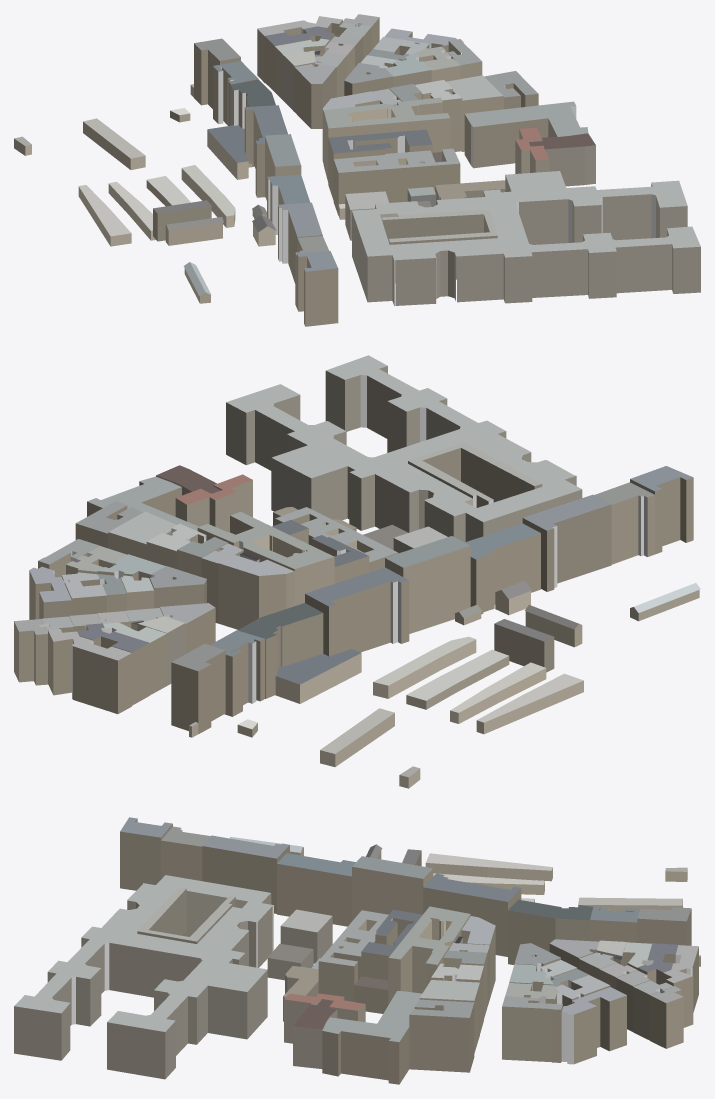
3 views of the same model, one above another, from view 1: azimuth 30°, elevation 25°; view 2: azimuth 150°, elevation 25°; view 3: azimuth 270°, elevation 25° (orthographic). The views are drawn at different scales.
Visible parts, largest first — view 1: tuile; view 2: tuile; view 3: tuile.
Part boxes in pixels (x1=…): tuile: x1=14, y1=14, x2=700, y2=326; tuile: x1=14, y1=355, x2=700, y2=788; tuile: x1=14, y1=817, x2=700, y2=1084.
Bounding box in the file's own units: 238 × 35.91 × 300.
